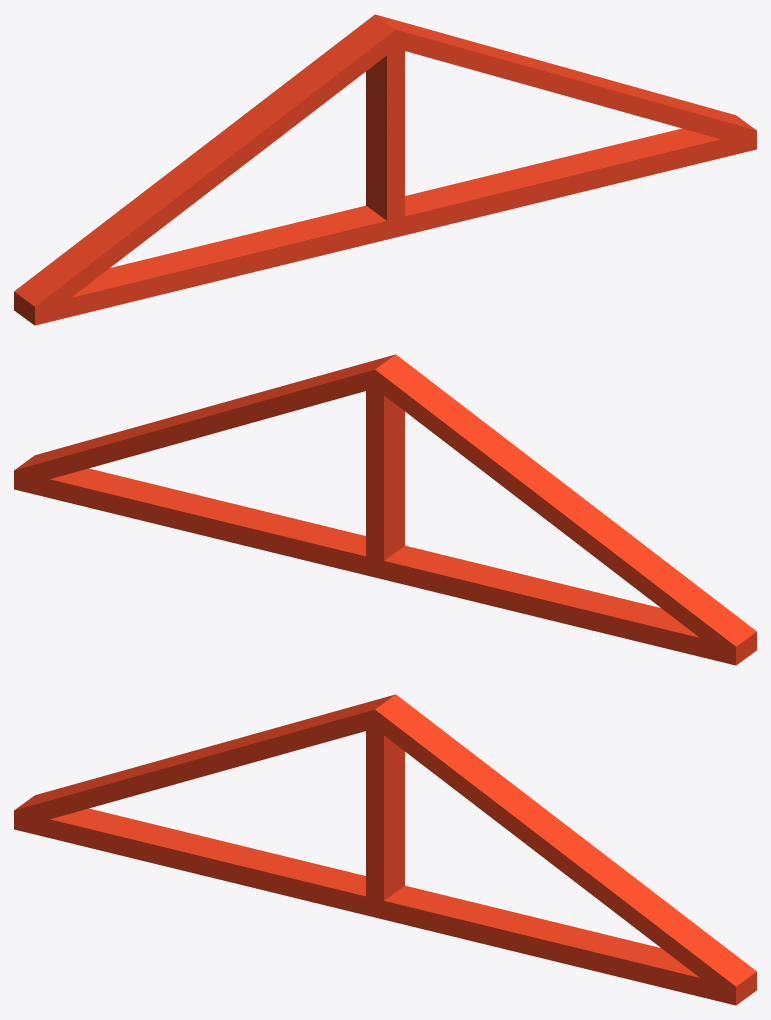
The model's file is SM_Roof_Truss_Wood_A.fbx.
3 renders of one model, top to bottom at view 1: azimuth 30°, elevation 25°; view 2: azimuth 150°, elevation 25°; view 3: azimuth 330°, elevation 25°, orthographic.
Parts seen in each view (by area): view 1: roof-truss-wood-a; view 2: roof-truss-wood-a; view 3: roof-truss-wood-a.
Boxes of the visible parts, x1,y1,x2,y2 form: roof-truss-wood-a: [14, 14, 756, 325]; roof-truss-wood-a: [14, 354, 756, 665]; roof-truss-wood-a: [14, 694, 756, 1005].
Size of the model in its own units: 4 by 1.1 by 0.2.
